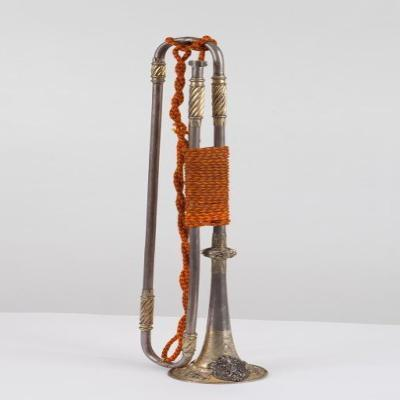other: (138, 36, 270, 386)
